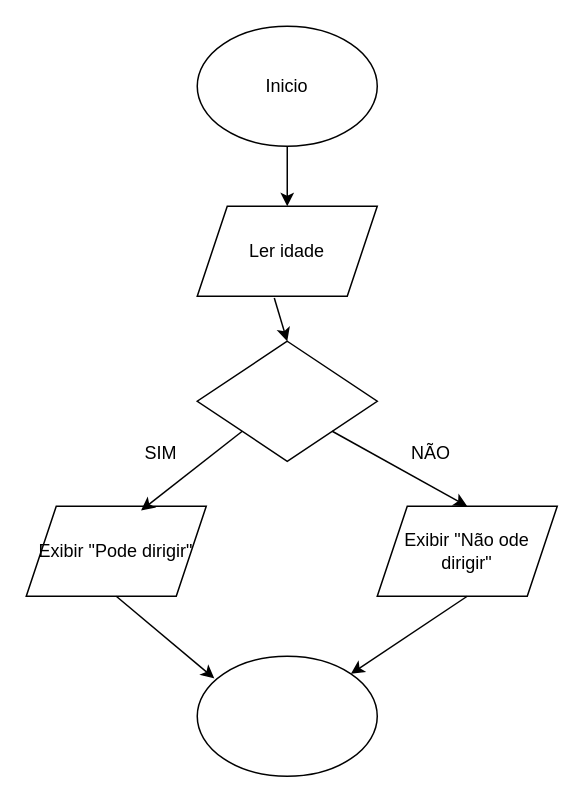
The diagram is 584 pixels wide and 803 high, and some of its shapes have lost their labels. The shapes that lost their labels are listed below. From the top down, each one's centre as x and y in pixels, then its label:
At (x=286, y=400): "idade >= 18".
At (x=286, y=715): "Fim".
